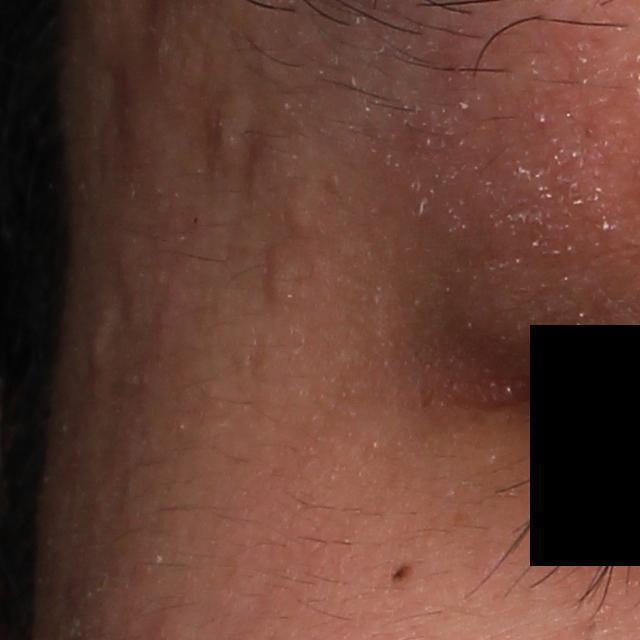nevus: (386, 561, 414, 582)
